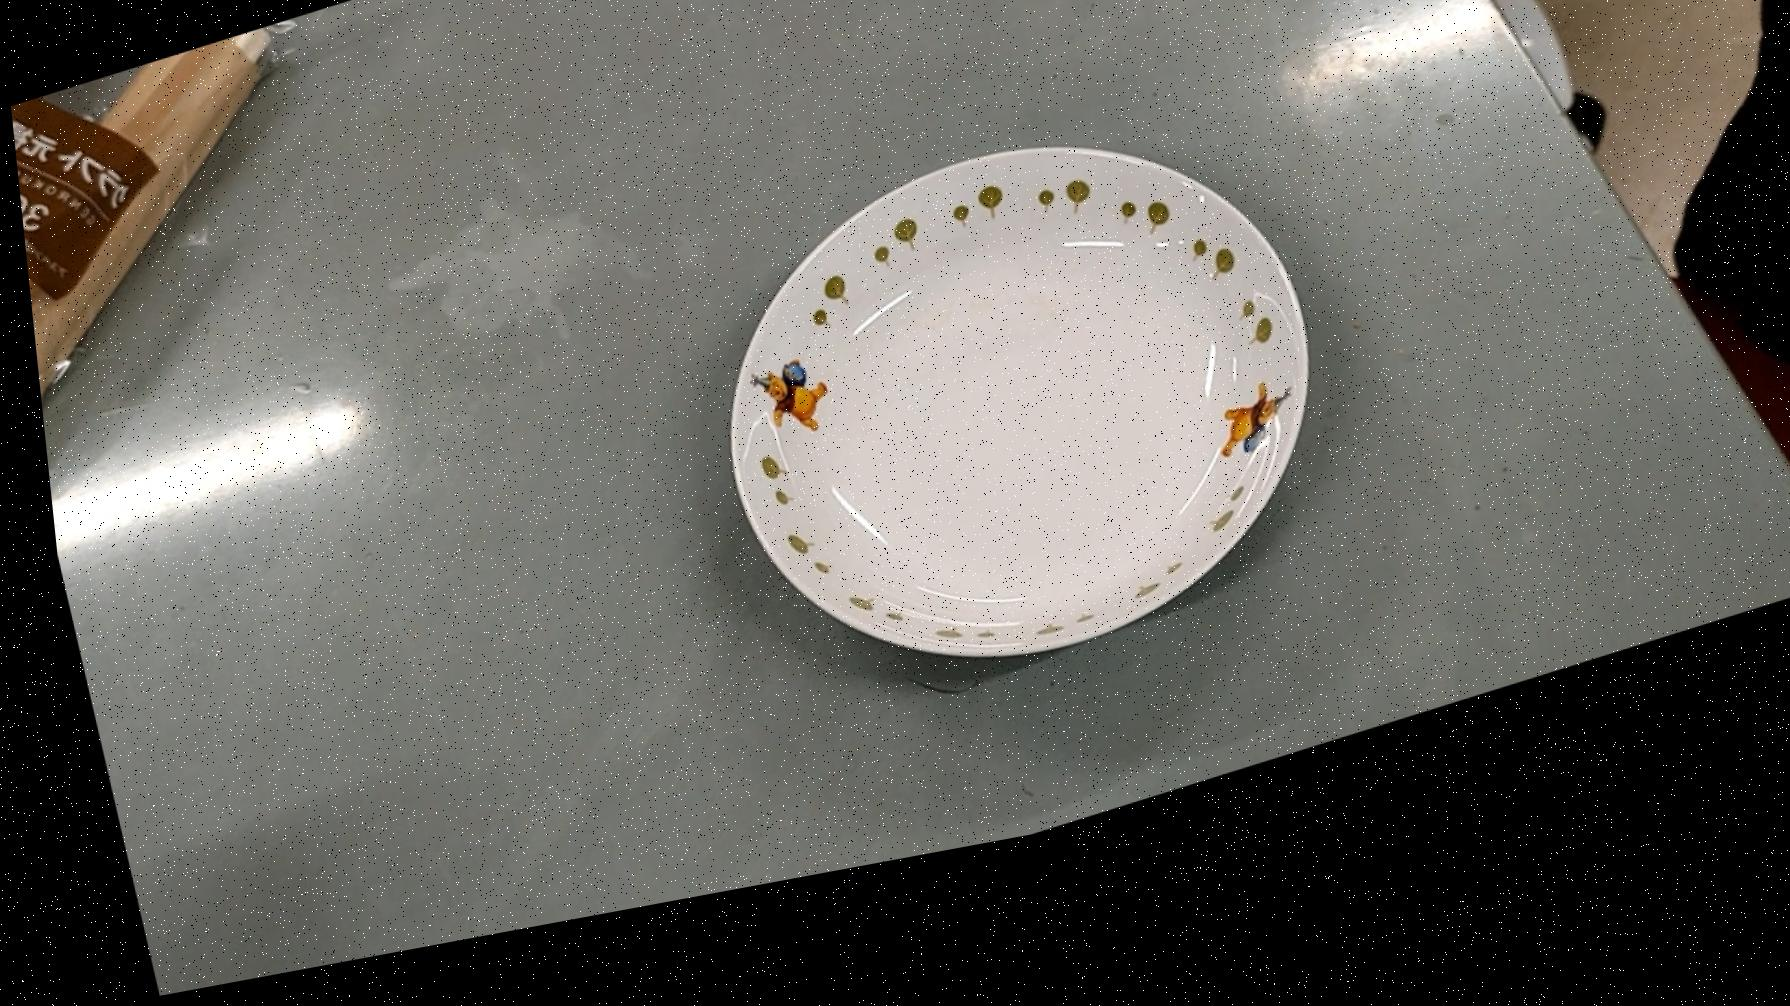plate: (671, 111, 1341, 769)
